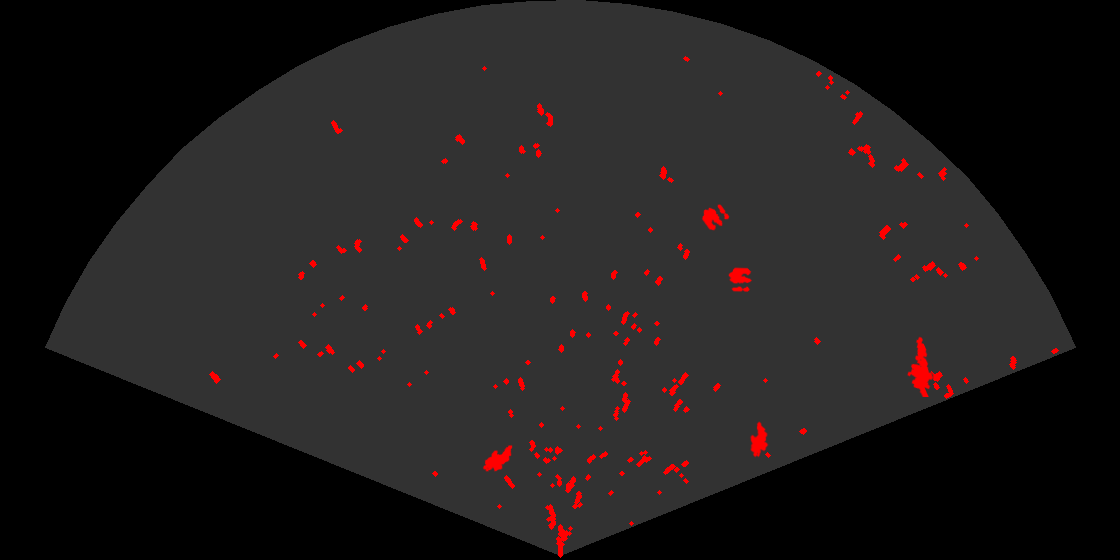AUV: (481, 443, 514, 473), (748, 420, 769, 459)
ball: (700, 203, 731, 232), (727, 266, 754, 293)
frogman: (906, 335, 934, 397)
